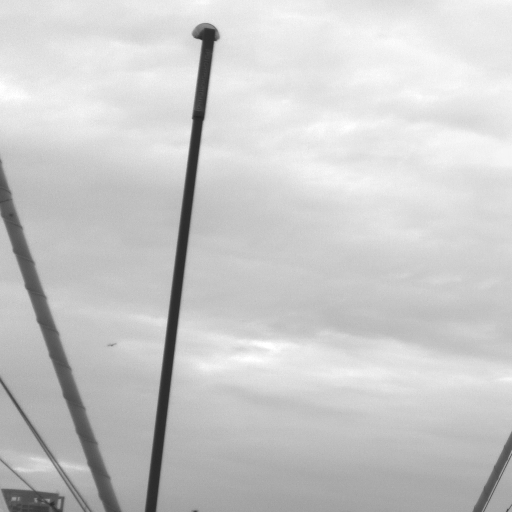uav: (107, 342, 117, 347)
